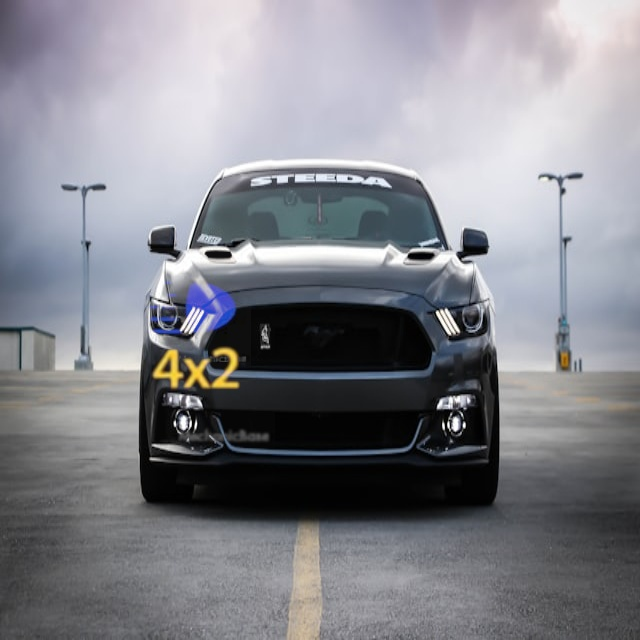symbol: (117, 291, 275, 449), (131, 248, 251, 368)
